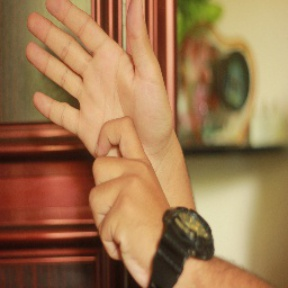R: (22, 2, 174, 241)
